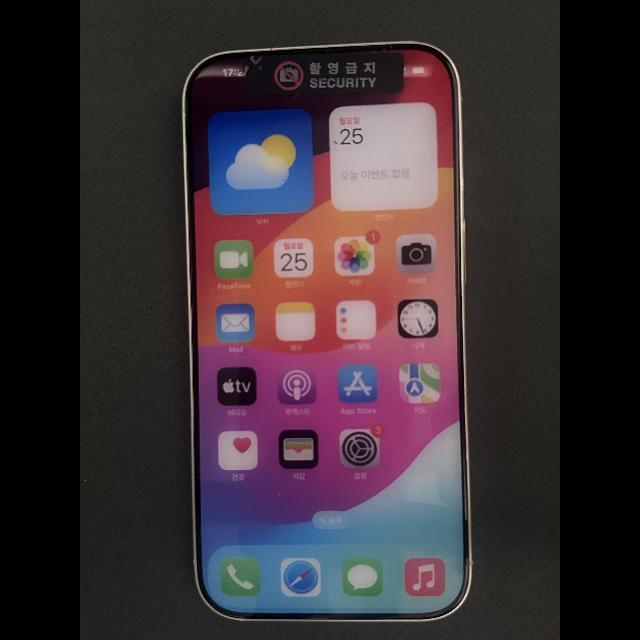phone: (182, 40, 473, 622)
sticker: (244, 53, 404, 96)
